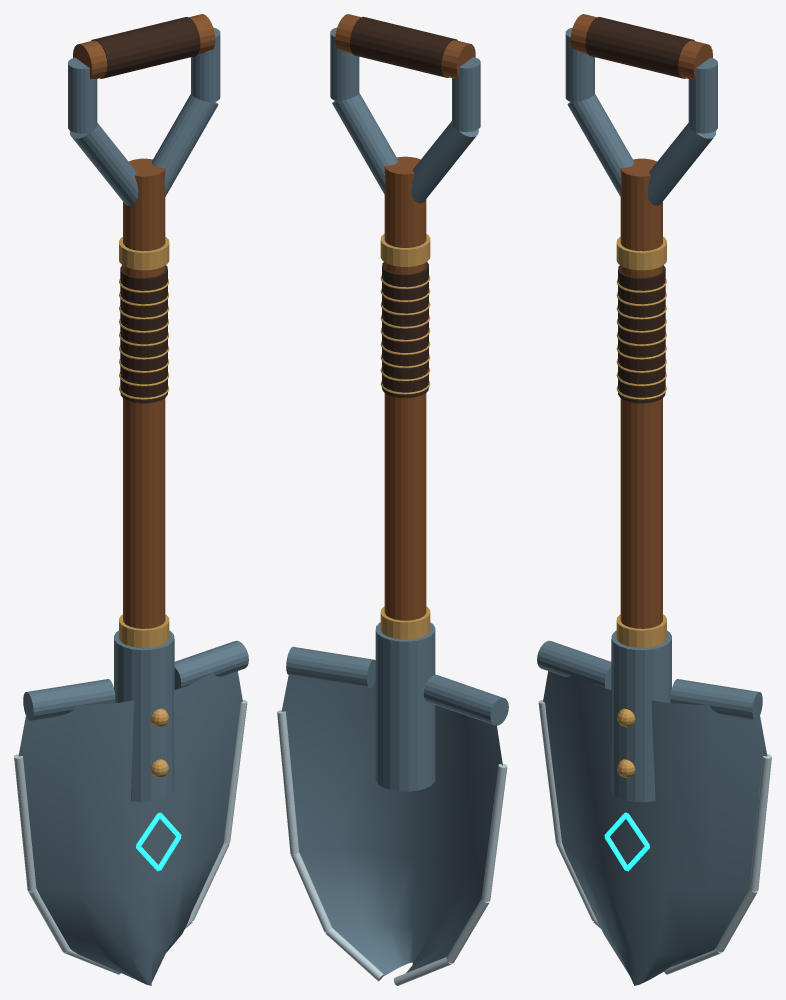
Rendered from shovel.glb.
3 views of the same model, side by side, from view 1: azimuth 30°, elevation 25°; view 2: azimuth 150°, elevation 25°; view 3: azimuth 330°, elevation 25° (orthographic).
Parts seen in each view (by area): view 1: Broad forged shovel blade, Long wooden shaft, Blade socket, Leather hand rest, D handle leather, D handle side.001, Boot tread, D handle side, Boot tread.001, D handle shoulder, D handle shoulder.001, D handle top (+6 smaller); view 2: Broad forged shovel blade, Long wooden shaft, Blade socket, Leather hand rest, D handle leather, Boot tread.001, D handle side.001, Boot tread, D handle side, D handle shoulder, D handle shoulder.001, D handle top (+8 smaller); view 3: Broad forged shovel blade, Long wooden shaft, Blade socket, Leather hand rest, D handle leather, D handle side, Boot tread.001, D handle side.001, Boot tread, D handle shoulder.001, D handle shoulder, D handle top (+5 smaller).
Boxes of the visible parts, left/top/right/bottom form: Broad forged shovel blade: left=18, top=671, right=242, bottom=985; Long wooden shaft: left=123, top=158, right=165, bottom=628; Blade socket: left=114, top=630, right=174, bottom=802; Leather hand rest: left=120, top=265, right=167, bottom=403; D handle leather: left=91, top=17, right=200, bottom=78; D handle side.001: left=151, top=93, right=218, bottom=196; Boot tread: left=23, top=679, right=115, bottom=720; D handle side: left=69, top=123, right=138, bottom=205; Boot tread.001: left=174, top=640, right=248, bottom=689; D handle shoulder: left=68, top=57, right=97, bottom=133; D handle shoulder.001: left=191, top=27, right=220, bottom=102; D handle top: left=73, top=14, right=215, bottom=79; Broad forged shovel blade: left=281, top=675, right=502, bottom=976; Long wooden shaft: left=384, top=156, right=426, bottom=620; Blade socket: left=375, top=622, right=435, bottom=791; Leather hand rest: left=382, top=262, right=428, bottom=397; D handle leather: left=350, top=16, right=457, bottom=77; Boot tread.001: left=286, top=646, right=375, bottom=687; D handle side.001: left=332, top=92, right=397, bottom=194; Boot tread: left=423, top=674, right=508, bottom=725; D handle side: left=411, top=121, right=478, bottom=203; D handle shoulder: left=452, top=57, right=480, bottom=131; D handle shoulder.001: left=330, top=27, right=359, bottom=101; D handle top: left=335, top=14, right=475, bottom=78; Broad forged shovel blade: left=543, top=671, right=767, bottom=985; Long wooden shaft: left=620, top=158, right=662, bottom=628; Blade socket: left=611, top=630, right=671, bottom=802; Leather hand rest: left=618, top=265, right=665, bottom=403; D handle leather: left=585, top=17, right=694, bottom=78; D handle side: left=567, top=93, right=634, bottom=196; Boot tread.001: left=670, top=679, right=762, bottom=720; D handle side.001: left=647, top=123, right=716, bottom=205; Boot tread: left=537, top=640, right=611, bottom=689; D handle shoulder.001: left=688, top=57, right=717, bottom=133; D handle shoulder: left=565, top=27, right=594, bottom=102; D handle top: left=570, top=14, right=712, bottom=79.
Size of the model in its own units: 0.5278 by 2.07 by 0.1539.
